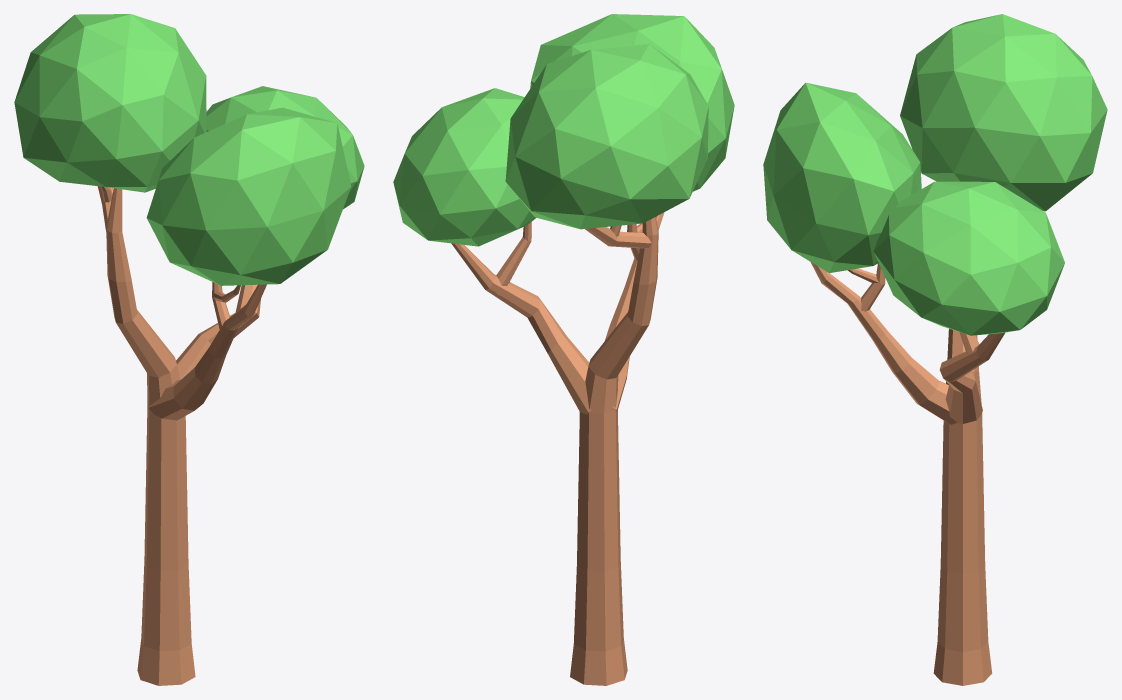
File: Tree_8.fbx
3 views of the same model, side by side, from view 1: azimuth 30°, elevation 25°; view 2: azimuth 150°, elevation 25°; view 3: azimuth 270°, elevation 25° (orthographic). The views are drawn at different scales.
Visible parts, largest first — view 1: Tree_8; view 2: Tree_8; view 3: Tree_8.
Part boxes in pixels (bbox=[...]): Tree_8: bbox=[14, 14, 364, 685]; Tree_8: bbox=[393, 14, 734, 685]; Tree_8: bbox=[763, 14, 1107, 685].
Size of the model in its own units: 6135 by 12436 by 6155.
